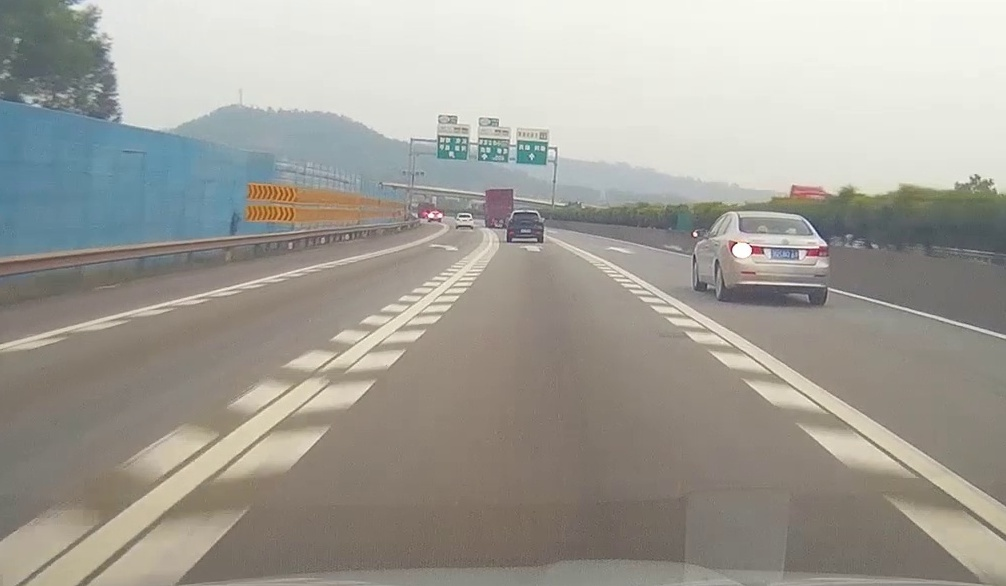L_light: (728, 240, 764, 255)
R_light: (805, 245, 829, 257)
T_light: (770, 232, 789, 235)
day-left: (726, 211, 830, 306)
